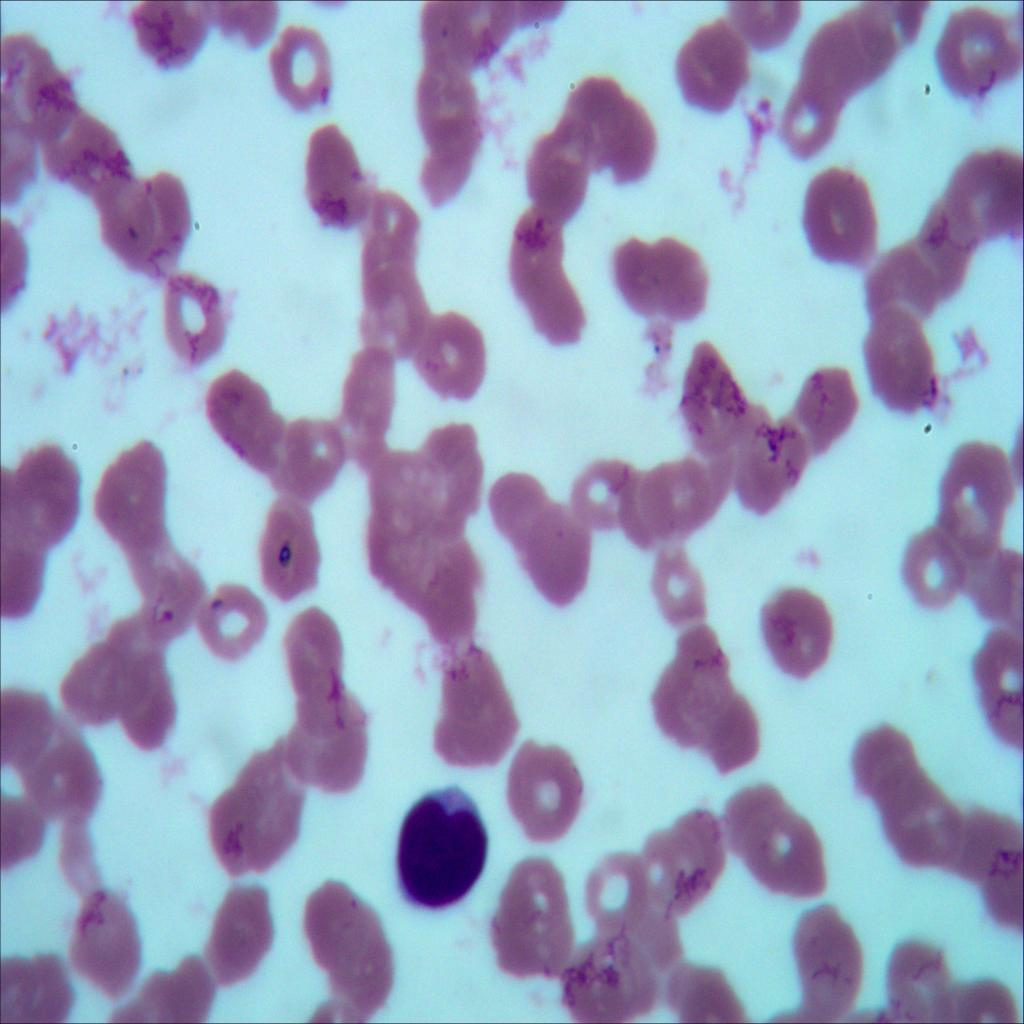Limfoblast: (400, 759, 488, 914)
